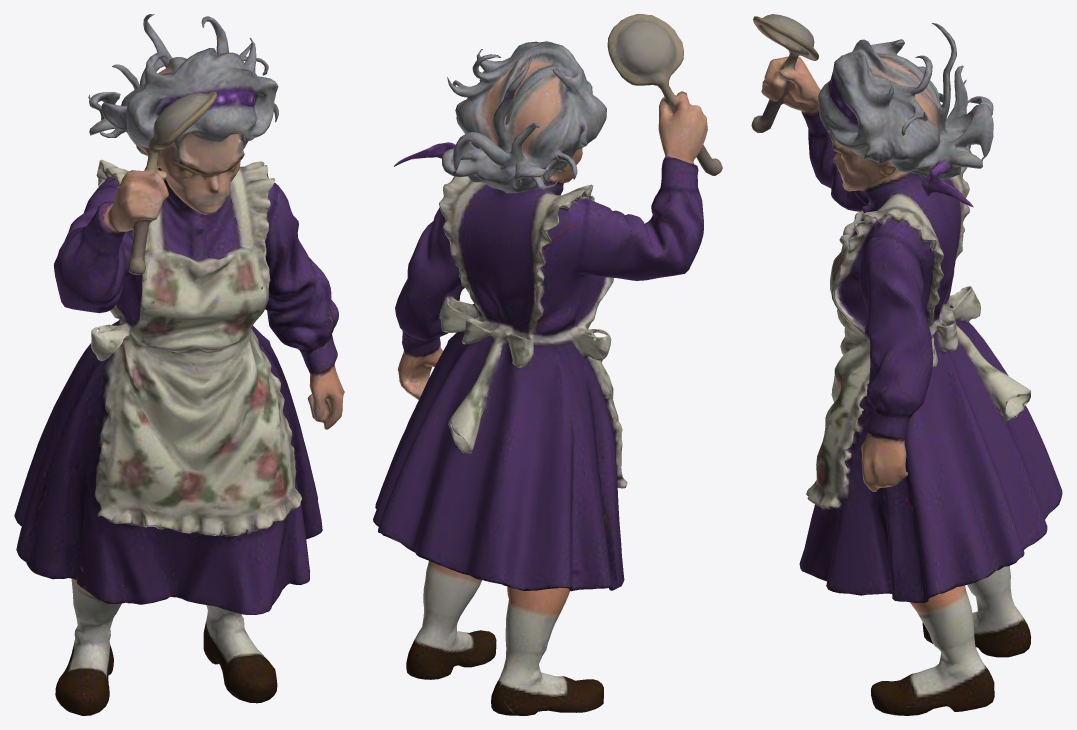
Rendered from agatha_wrath_full.glb.
3 views of the same model, side by side, from view 1: azimuth 30°, elevation 25°; view 2: azimuth 150°, elevation 25°; view 3: azimuth 270°, elevation 25° (orthographic). The views are drawn at different scales.
Size of the model in its own units: 0.4071 by 0.8742 by 0.3807.
1 material, 1 textured.
